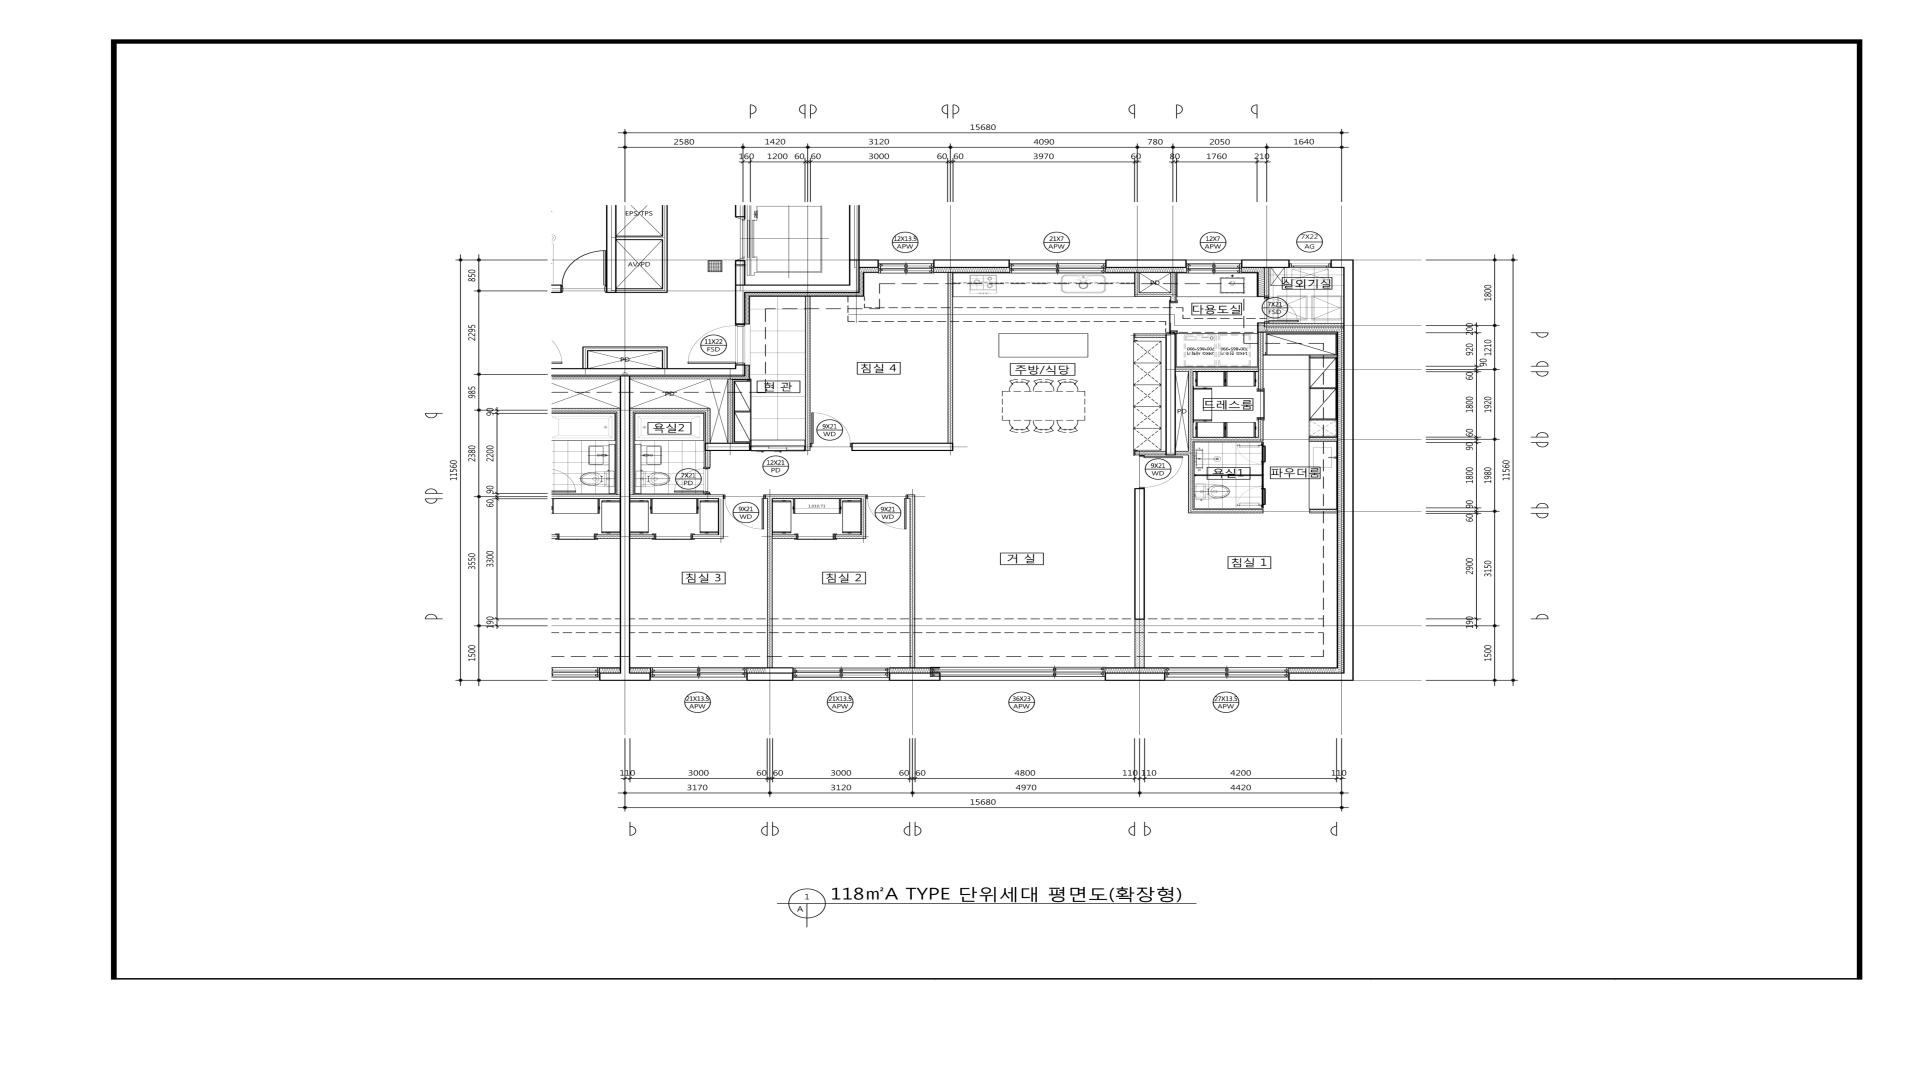door: (687, 324, 745, 365), (562, 251, 607, 293), (1139, 455, 1183, 488), (811, 413, 852, 447), (724, 495, 765, 529), (866, 495, 907, 529), (674, 467, 709, 493), (1265, 297, 1299, 323), (1236, 487, 1263, 506), (1236, 444, 1263, 464), (750, 446, 804, 451)
wall: (1344, 268, 1354, 680), (620, 376, 630, 673), (551, 368, 745, 376), (1134, 488, 1145, 620), (1166, 334, 1176, 455), (804, 297, 811, 451), (605, 204, 616, 293), (745, 285, 860, 293), (948, 273, 953, 443), (910, 498, 915, 667), (767, 498, 773, 667), (849, 204, 860, 285), (852, 443, 953, 451), (1188, 372, 1193, 509), (1105, 260, 1187, 268), (934, 260, 1010, 268), (1134, 620, 1145, 667), (1105, 673, 1166, 680), (662, 204, 667, 289), (1288, 673, 1344, 680), (735, 285, 745, 324), (633, 407, 711, 413), (765, 495, 866, 498), (1241, 260, 1290, 268), (630, 495, 724, 498), (1193, 436, 1263, 442), (746, 673, 793, 680), (705, 443, 750, 451), (728, 378, 733, 443), (889, 673, 930, 680), (1176, 368, 1258, 372), (583, 347, 662, 351), (1265, 323, 1344, 327), (1258, 332, 1263, 389), (1188, 509, 1263, 513), (735, 260, 745, 285), (620, 673, 650, 680), (717, 498, 724, 534), (630, 407, 633, 495), (861, 498, 866, 539), (617, 289, 667, 293), (1331, 260, 1354, 268), (616, 236, 662, 240), (691, 534, 724, 539), (705, 413, 711, 443), (1170, 273, 1175, 302), (860, 260, 878, 268), (1309, 436, 1337, 442), (835, 534, 861, 539), (735, 204, 745, 218), (773, 534, 796, 539), (630, 534, 654, 539), (1134, 273, 1139, 297), (1139, 293, 1171, 297), (1134, 334, 1166, 338), (1134, 451, 1166, 455), (1265, 268, 1269, 297), (662, 347, 667, 368), (1309, 509, 1337, 513), (583, 351, 588, 368), (1258, 419, 1263, 436), (705, 451, 711, 467), (735, 364, 745, 368), (907, 495, 915, 498), (705, 493, 711, 495)
window: (930, 667, 1105, 680), (1164, 667, 1288, 680), (793, 667, 889, 680), (650, 667, 746, 680), (1010, 260, 1105, 273), (878, 260, 934, 273), (1187, 260, 1241, 273), (1290, 260, 1331, 268)
